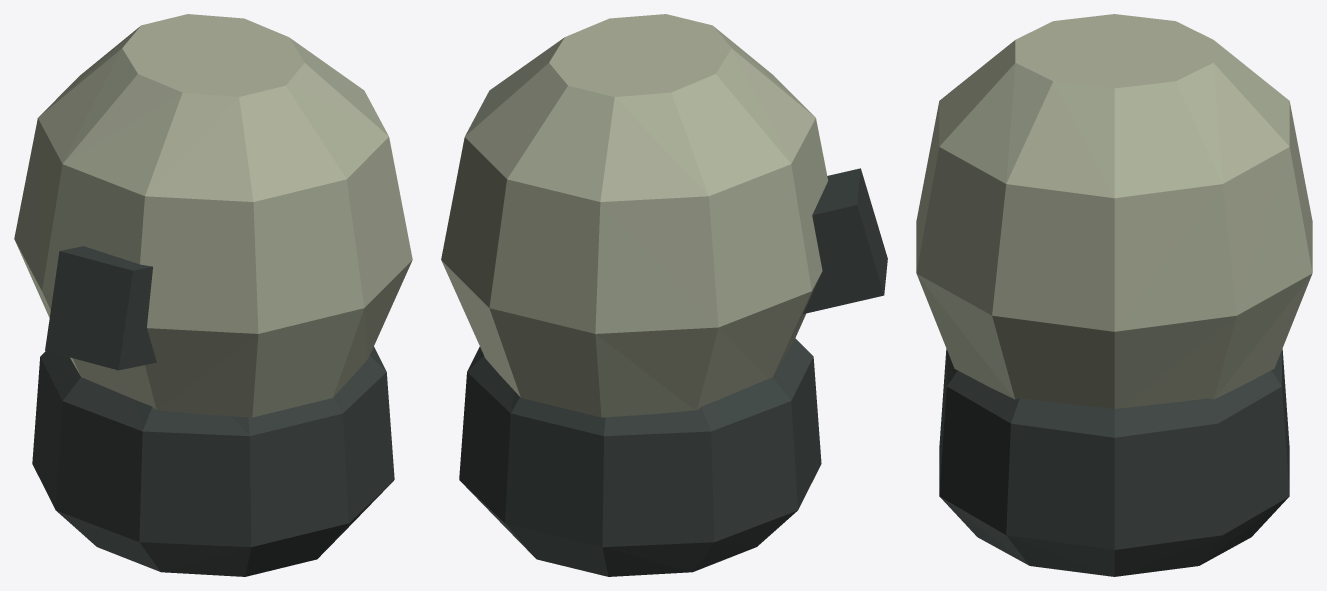
File: pikeman_leg_right_front.obj
3 renders of one model, left to right at view 1: azimuth 30°, elevation 25°; view 2: azimuth 150°, elevation 25°; view 3: azimuth 270°, elevation 25°, orthographic.
Visible parts, largest first — view 1: pikeman_leg_right_front; view 2: pikeman_leg_right_front; view 3: pikeman_leg_right_front.
Part boxes in pixels (x1,y1,x2,y2): pikeman_leg_right_front: [14, 14, 412, 576]; pikeman_leg_right_front: [441, 14, 887, 576]; pikeman_leg_right_front: [916, 14, 1312, 576].
Size of the model in its own units: 0.5506 by 0.645 by 0.4945.
